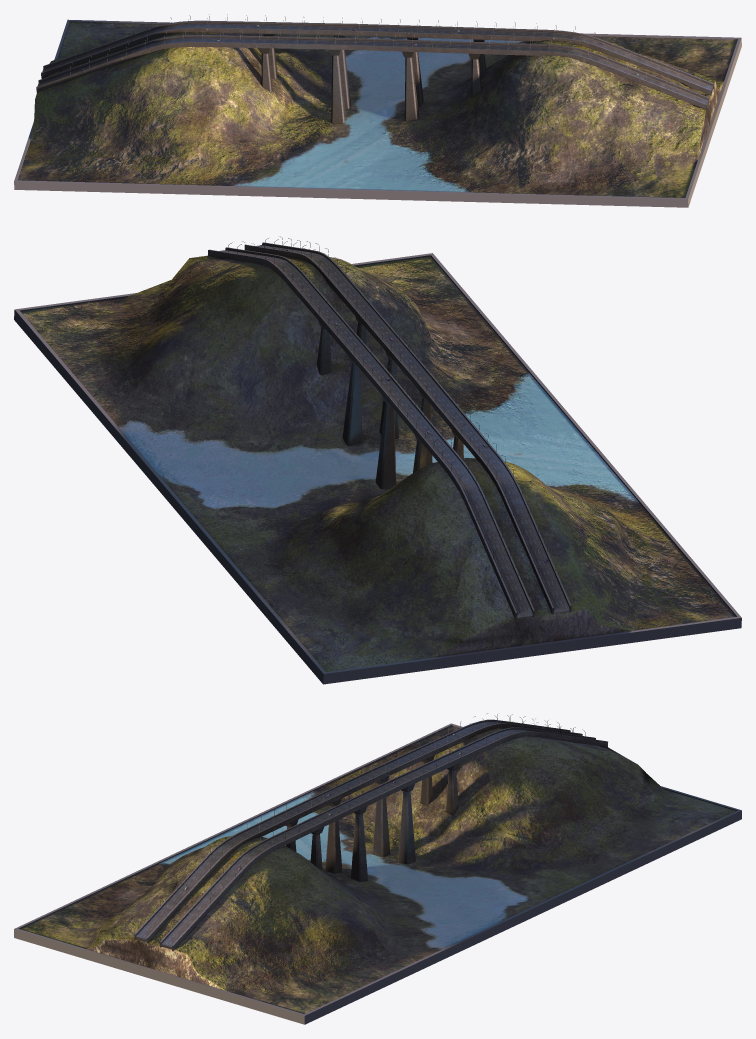
The model's file is montagna3.dae.
The picture shows the model from 3 angles, top to bottom: view 1: azimuth 30°, elevation 25°; view 2: azimuth 150°, elevation 25°; view 3: azimuth 270°, elevation 25°; orthographic projection. The views are drawn at different scales.
Parts seen in each view (by area): view 1: montagna, ponte, cestino, palo_macchina; view 2: montagna, ponte, cestino; view 3: montagna, ponte, cestino.
Part boxes in pixels (left/top/right/bottom): montagna: left=18, top=22, right=737, bottom=197; ponte: left=36, top=20, right=713, bottom=123; cestino: left=14, top=19, right=741, bottom=207; palo_macchina: left=70, top=25, right=668, bottom=88; montagna: left=20, top=248, right=735, bottom=671; ponte: left=208, top=242, right=571, bottom=619; cestino: left=14, top=253, right=741, bottom=684; montagna: left=20, top=726, right=735, bottom=1013; ponte: left=134, top=719, right=607, bottom=950; cestino: left=14, top=723, right=741, bottom=1024.
Size of the model in its own units: 1653 by 287 by 1544.
Materials: 5 (5 with a texture image).
